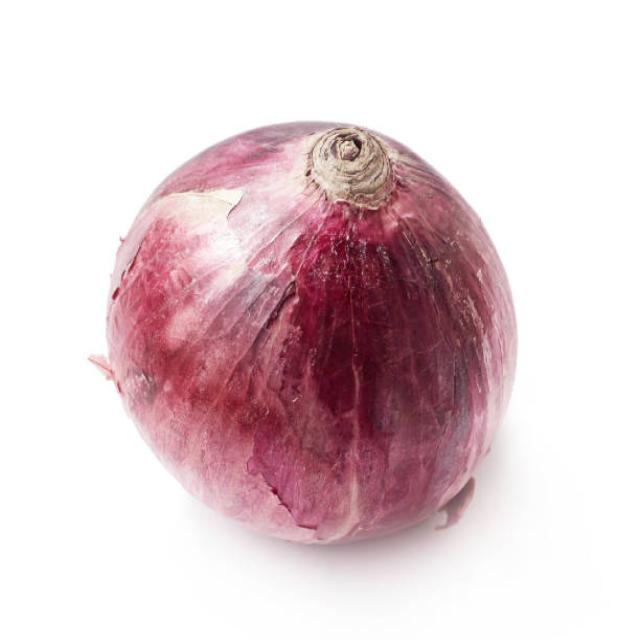onion: (107, 110, 522, 552)
